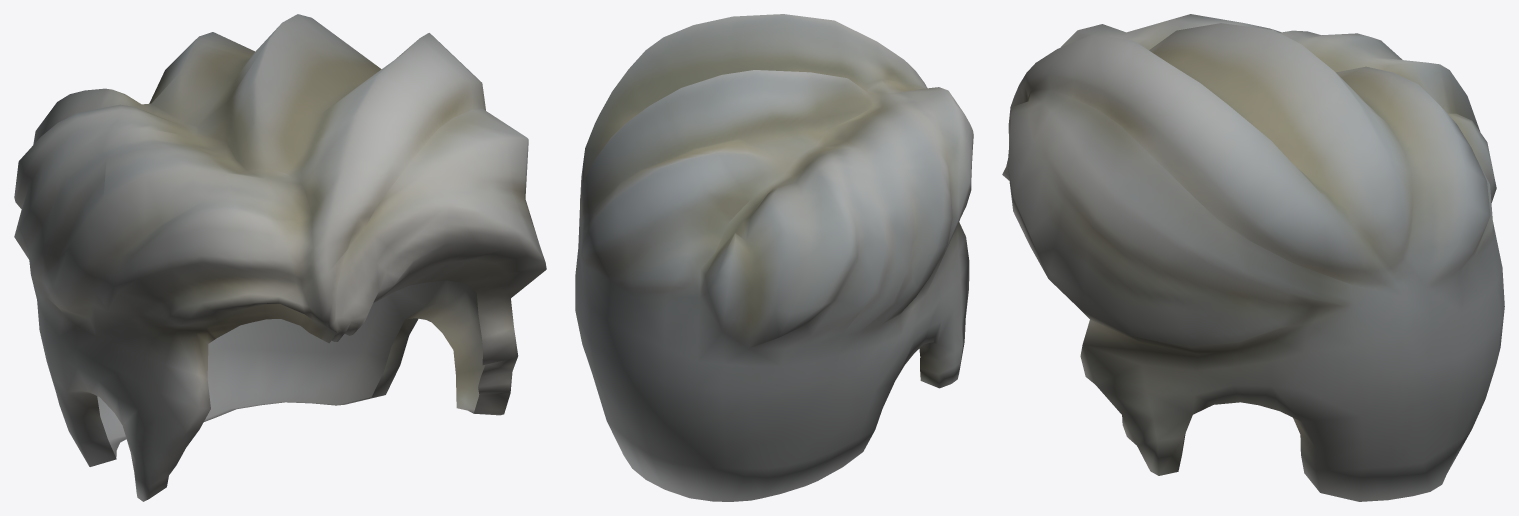
Rendered from hair_parted.glb.
3 renders of one model, left to right at view 1: azimuth 30°, elevation 25°; view 2: azimuth 150°, elevation 25°; view 3: azimuth 270°, elevation 25°, orthographic. The views are drawn at different scales.
Parts seen in each view (by area): view 1: Hair_SimpleParted; view 2: Hair_SimpleParted; view 3: Hair_SimpleParted.
Boxes of the visible parts, x1=… form: Hair_SimpleParted: x1=14, y1=14, x2=546, y2=501; Hair_SimpleParted: x1=575, y1=14, x2=973, y2=501; Hair_SimpleParted: x1=1002, y1=14, x2=1504, y2=501.
Bounding box in the file's own units: 0.1754 × 0.1825 × 0.1857.
1 material, 1 textured.
